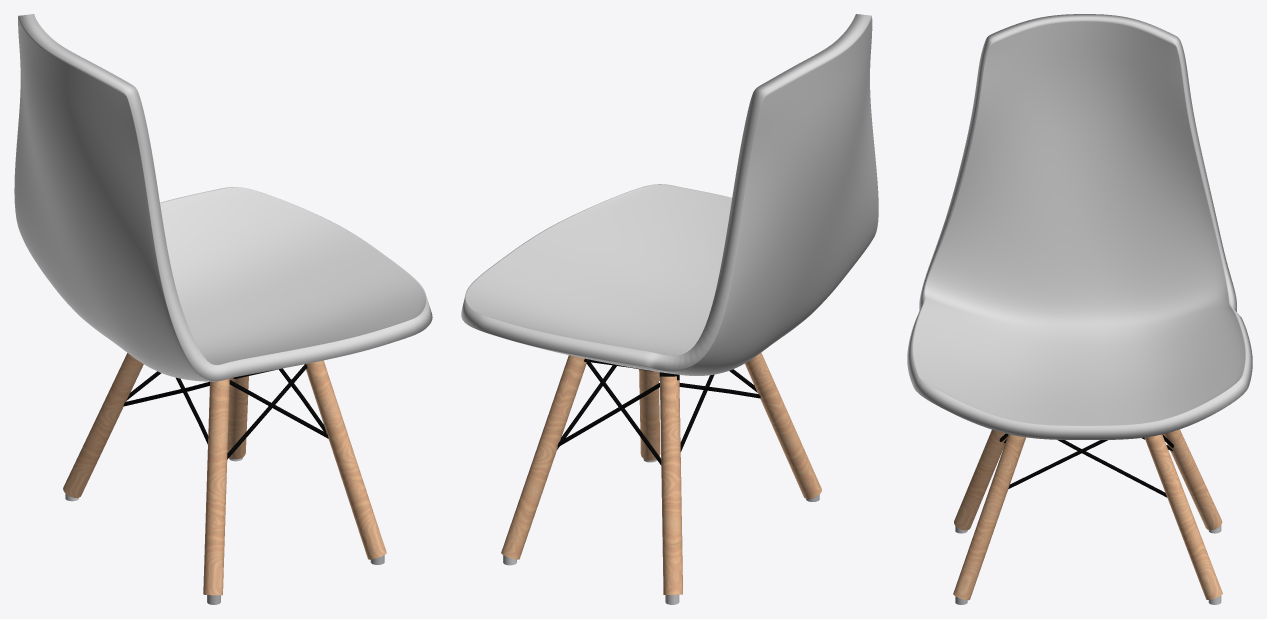
The model's file is chair3_ver2.glb.
3 views of the same model, side by side, from view 1: azimuth 30°, elevation 25°; view 2: azimuth 150°, elevation 25°; view 3: azimuth 270°, elevation 25° (orthographic). The views are drawn at different scales.
Parts seen in each view (by area): view 1: Plane, Cylinder.001, Cylinder, Cylinder.003, Cylinder.002; view 2: Plane, Cylinder.003, Cylinder.002, Cylinder.001, Cylinder, Cylinder.013; view 3: Plane, Cylinder.002, Cylinder, Cylinder.003, Cylinder.001, Cylinder.006.
Boxes of the visible parts, <box> form: Plane: <box>14,14,432,381</box>; Cylinder.001: <box>203,378,229,595</box>; Cylinder: <box>305,360,386,559</box>; Cylinder.003: <box>63,353,143,497</box>; Cylinder.002: <box>227,376,248,459</box>; Plane: <box>461,14,878,375</box>; Cylinder.003: <box>659,376,682,594</box>; Cylinder.002: <box>501,355,587,559</box>; Cylinder.001: <box>745,352,821,498</box>; Cylinder: <box>639,369,660,460</box>; Cylinder.013: <box>586,359,661,465</box>; Plane: <box>907,14,1252,439</box>; Cylinder.002: <box>1144,434,1222,599</box>; Cylinder: <box>953,434,1025,600</box>; Cylinder.003: <box>1163,429,1222,530</box>; Cylinder.001: <box>954,429,1007,530</box>; Cylinder.006: <box>1058,440,1166,497</box>.
Bounding box in the file's own units: 0.5851 × 0.8568 × 0.5666.
Materials: 4 (1 with a texture image).
